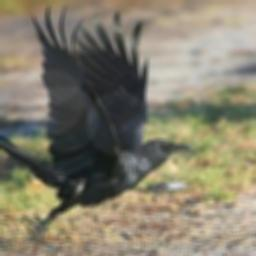Crow: (0, 1, 194, 245)
